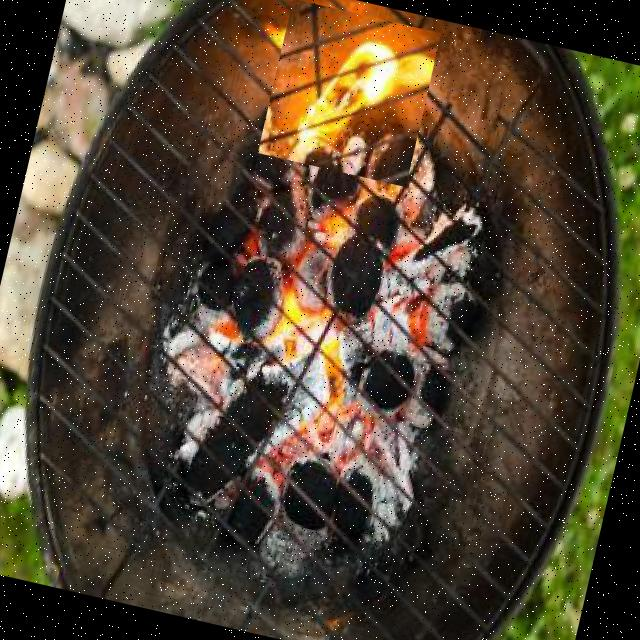fire: (257, 0, 441, 186)
